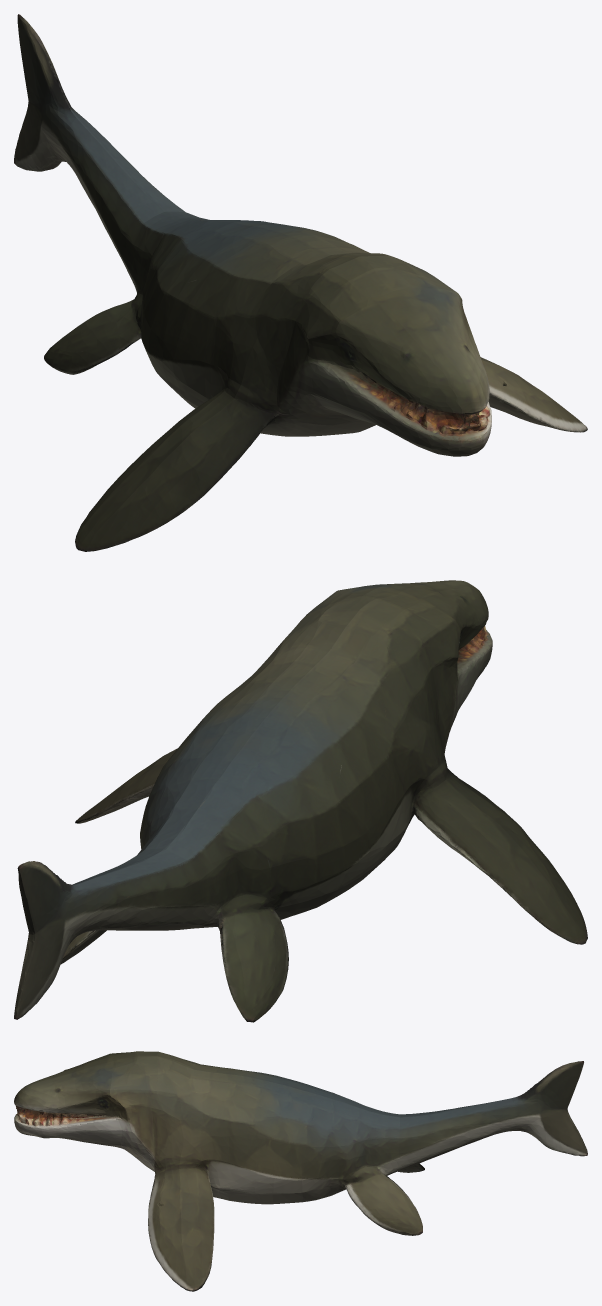
3 renders of one model, top to bottom at view 1: azimuth 30°, elevation 25°; view 2: azimuth 150°, elevation 25°; view 3: azimuth 270°, elevation 25°, orthographic. The views are drawn at different scales.
Parts seen in each view (by area): view 1: world; view 2: world; view 3: world.
Boxes of the visible parts, x1,y1,x2,y2 form: world: [14, 14, 587, 551]; world: [14, 580, 587, 1022]; world: [14, 1051, 587, 1291].
Size of the model in its own units: 3.83 by 1.82 by 6.
Materials: 1 (1 with a texture image).
